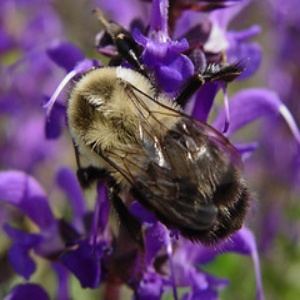bee: (64, 62, 265, 255)
